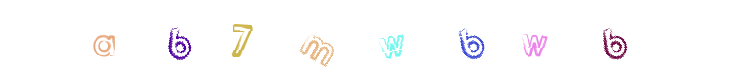6: (201, 0, 281, 80), (361, 0, 441, 80), (574, 0, 654, 80)
7: (212, 0, 292, 80)
A: (139, 0, 219, 80)
M: (335, 0, 415, 80)
W: (353, 0, 433, 80), (437, 0, 517, 80)
